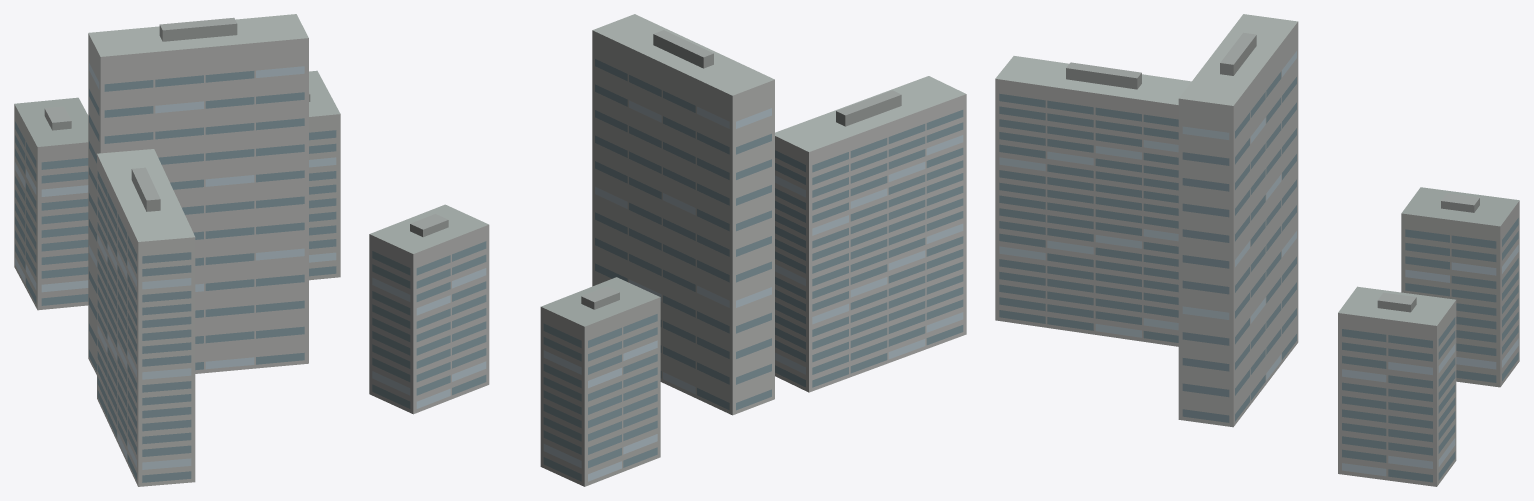
Rendered from apt-a14319008.glb.
The picture shows the model from 3 angles, left to right: view 1: azimuth 30°, elevation 25°; view 2: azimuth 150°, elevation 25°; view 3: azimuth 270°, elevation 25°; orthographic projection.
Visible parts, largest first — view 1: apt-a14319008; view 2: apt-a14319008; view 3: apt-a14319008.
Boxes of the visible parts, left/top/right/bottom form: apt-a14319008: left=14, top=14, right=340, bottom=486; apt-a14319008: left=369, top=14, right=966, bottom=486; apt-a14319008: left=995, top=14, right=1519, bottom=486.
Bounding box in the file's own units: 86.82 × 71 × 102.
